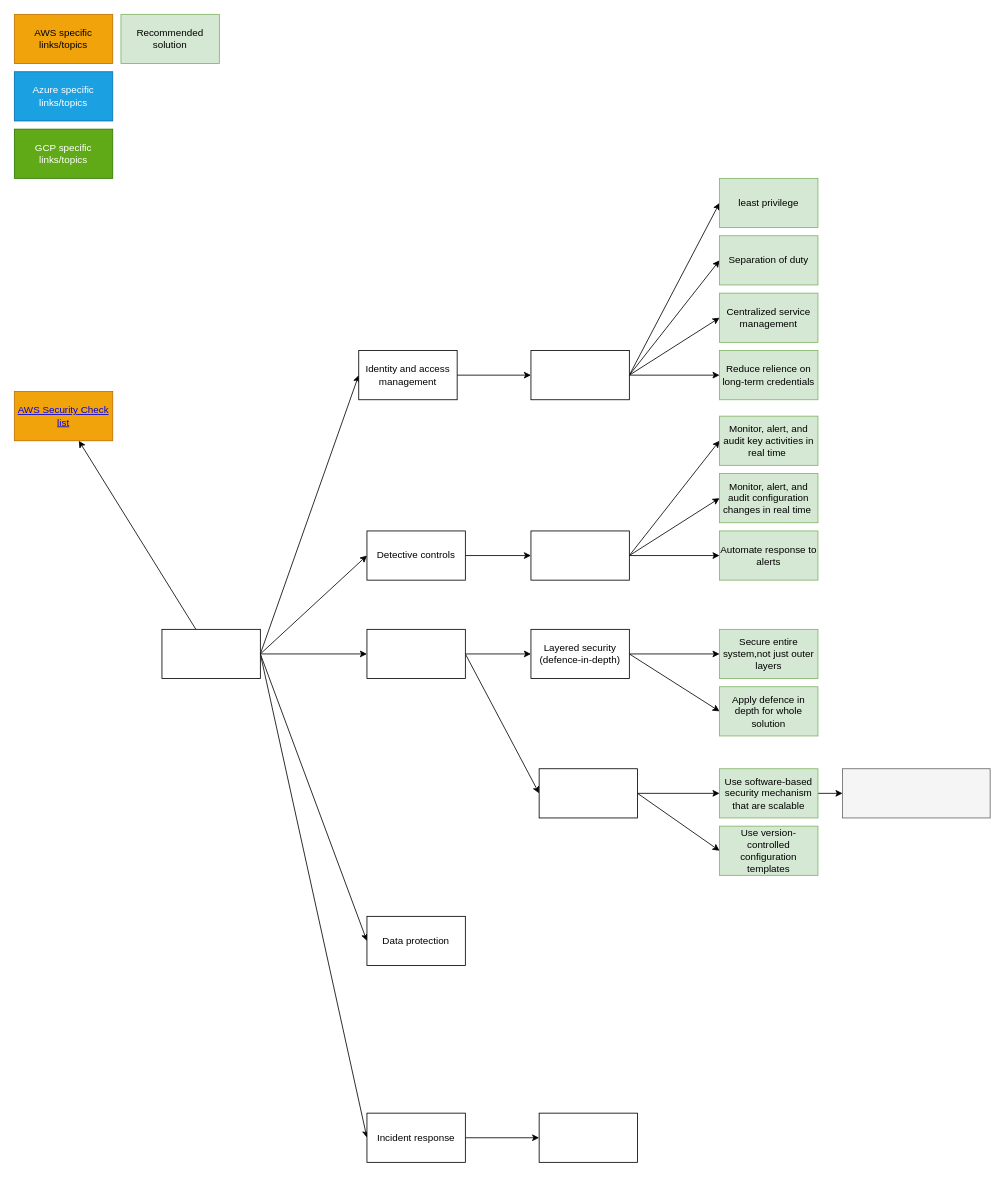
The diagram is 1005 pixels wide and 1177 high, and some of its shapes have lost their labels. The shapes that lost their labels are listed below. From the top down, each one's centre as x and y in pixels, then its label:
pixel 579 375: Strong identity foundation
pixel 579 555: Traceability or detective controls
pixel 210 654: Security check list
pixel 415 654: Infrastructure protection
pixel 588 793: Automated security best practices
pixel 916 793: Software-based firewall such as security group in AWS/Azure
pixel 588 1137: Define the incident business proceses workflows
